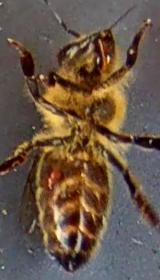varroa_mite: (38, 166, 72, 195)
